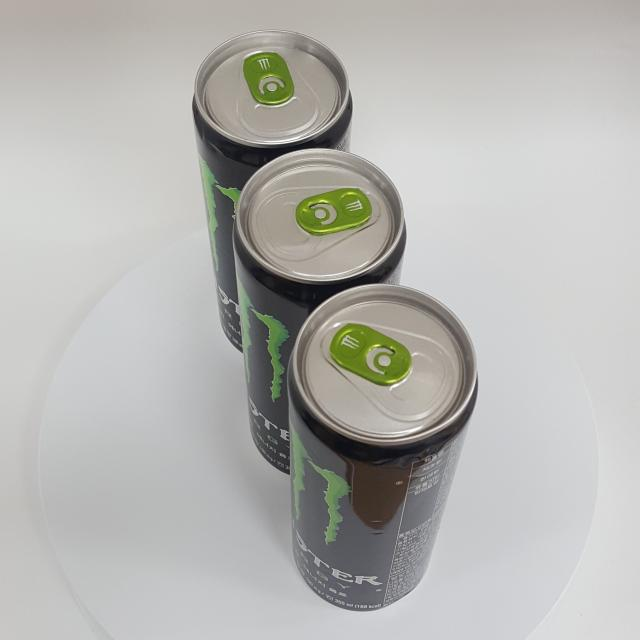--------355ML: (286, 283, 478, 612)
